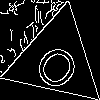O: (31, 34, 89, 94)
